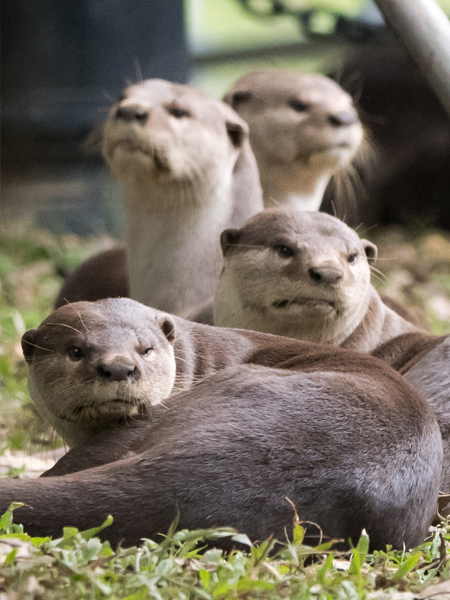otter: (6, 293, 446, 555), (85, 73, 276, 312), (204, 198, 450, 370)
